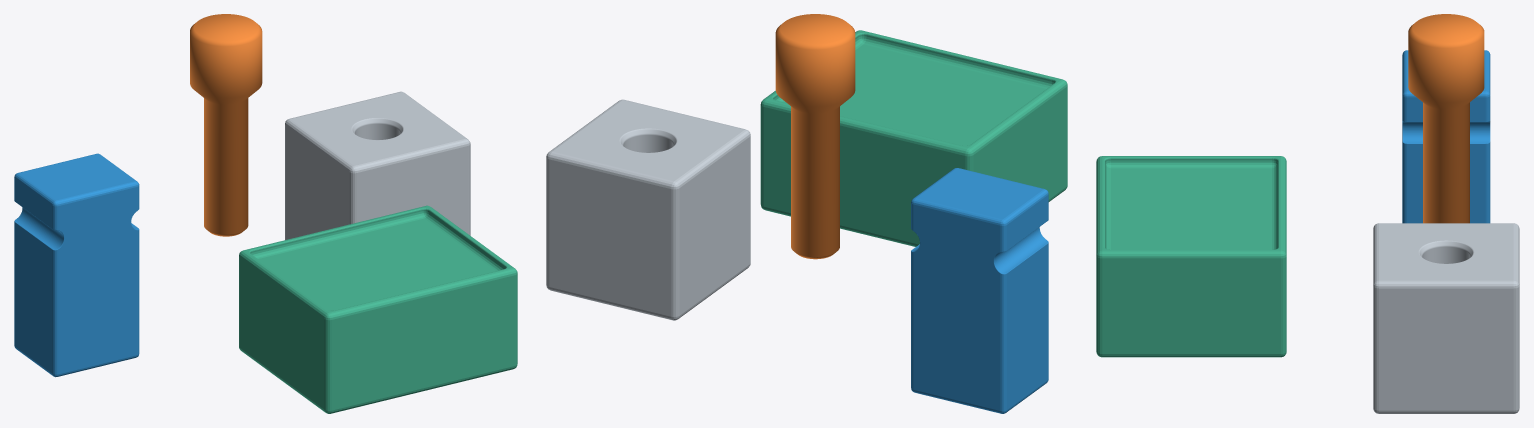
File: pla_grasp_kit_tall.glb
The picture shows the model from 3 angles, left to right: view 1: azimuth 30°, elevation 25°; view 2: azimuth 150°, elevation 25°; view 3: azimuth 270°, elevation 25°; orthographic projection. The views are drawn at different scales.
Parts seen in each view (by area): view 1: 04_高位浅槽分拣托盘, 01_高位带指槽抓取块, 03_高位盲孔插装座, 02_高位带头导向圆柱销; view 2: 03_高位盲孔插装座, 04_高位浅槽分拣托盘, 01_高位带指槽抓取块, 02_高位带头导向圆柱销; view 3: 04_高位浅槽分拣托盘, 03_高位盲孔插装座, 02_高位带头导向圆柱销, 01_高位带指槽抓取块.
Part boxes in pixels (left/top/right/bottom): 04_高位浅槽分拣托盘: left=239, top=205, right=517, bottom=413; 01_高位带指槽抓取块: left=14, top=153, right=139, bottom=377; 03_高位盲孔插装座: left=285, top=91, right=470, bottom=239; 02_高位带头导向圆柱销: left=190, top=14, right=262, bottom=236; 03_高位盲孔插装座: left=546, top=99, right=750, bottom=320; 04_高位浅槽分拣托盘: left=760, top=30, right=1067, bottom=246; 01_高位带指槽抓取块: left=911, top=168, right=1048, bottom=413; 02_高位带头导向圆柱销: left=775, top=14, right=855, bottom=259; 04_高位浅槽分拣托盘: left=1096, top=156, right=1286, bottom=357; 03_高位盲孔插装座: left=1373, top=223, right=1519, bottom=413; 02_高位带头导向圆柱销: left=1408, top=14, right=1484, bottom=223; 01_高位带指槽抓取块: left=1402, top=50, right=1490, bottom=223.
Size of the model in its own units: 0.168 by 0.115 by 0.1445.
